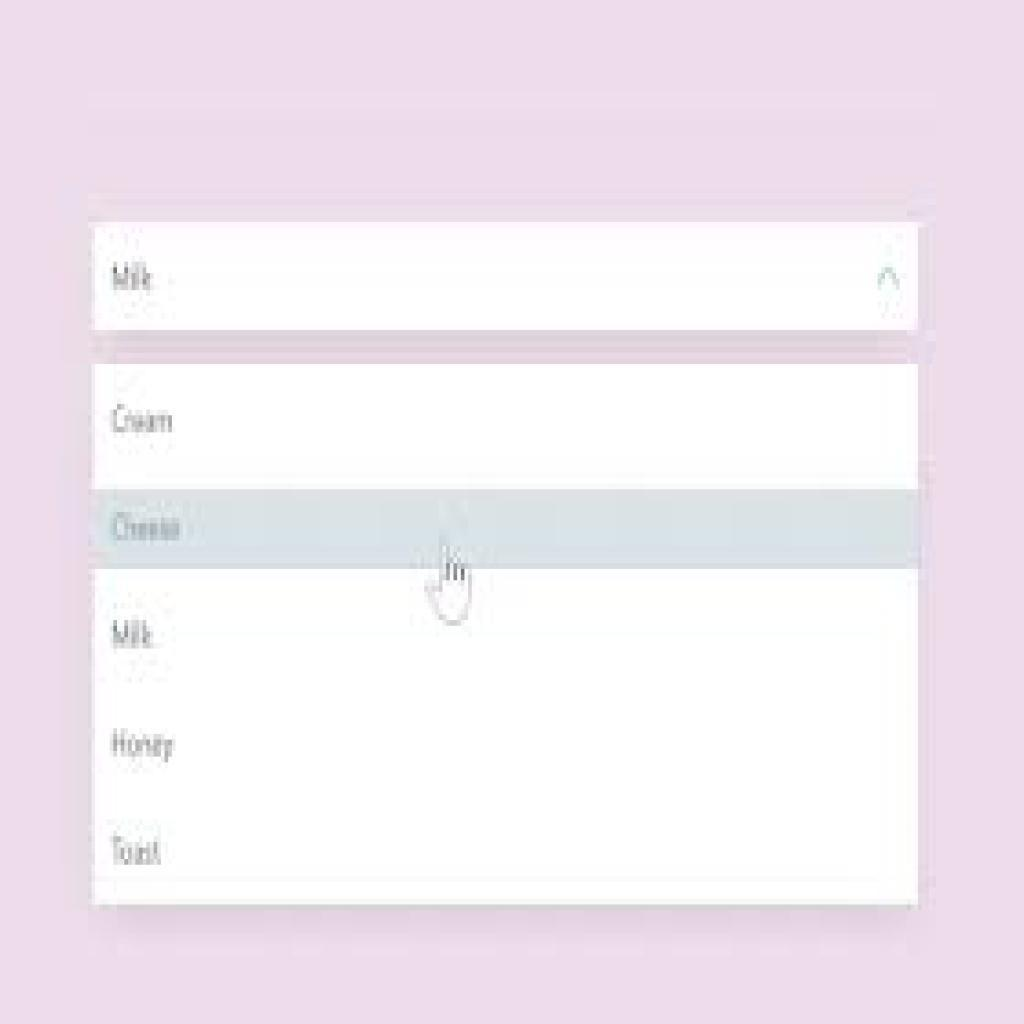dropdown: (90, 221, 920, 336)
